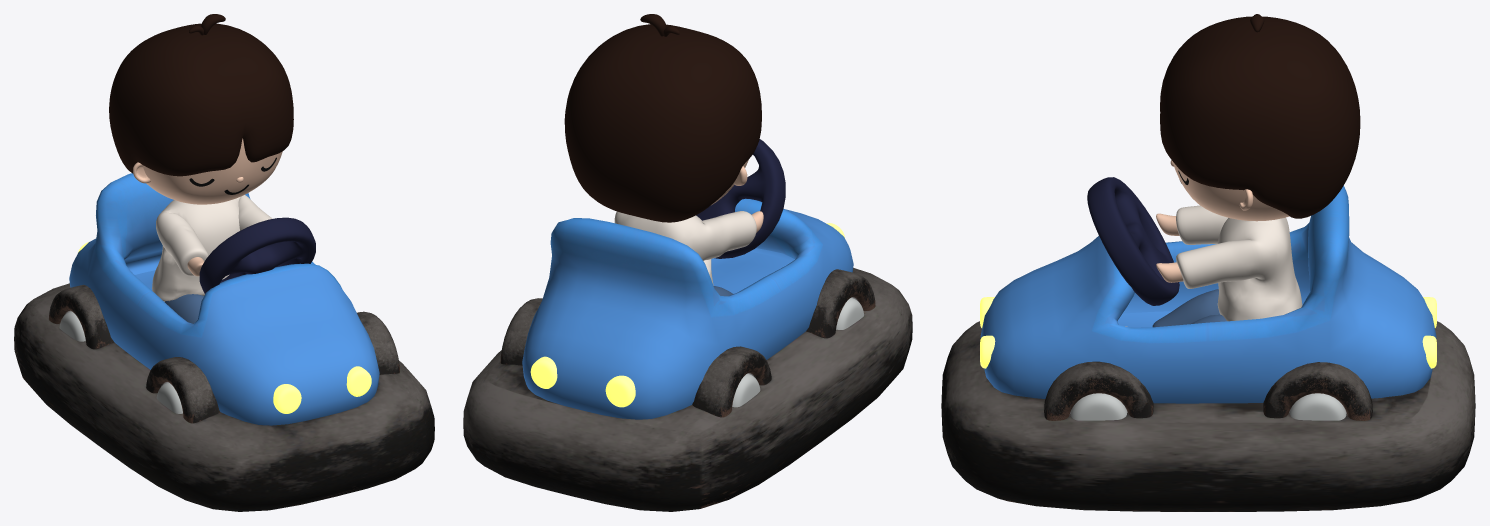
File: BwM3.glb
3 renders of one model, left to right at view 1: azimuth 30°, elevation 25°; view 2: azimuth 150°, elevation 25°; view 3: azimuth 270°, elevation 25°, orthographic. The views are drawn at different scales.
Parts seen in each view (by area): view 1: car11_Cube_3, car11_Cube3, WhiteForUE12.001, car11_Circle3, Handle5, car11_Circle_5, car11_Circle_4; view 2: car11_Cube_3, car11_Cube3, WhiteForUE12.001, car11_Circle3, Handle5, car11_Circle_5, car11_Circle_4; view 3: car11_Cube_3, car11_Cube3, WhiteForUE12.001, car11_Circle3, Handle5, car11_Circle_4, car11_Circle_5.
Part boxes in pixels (box(x1,y1,x2,y2)): car11_Cube_3: box(14, 283, 434, 511); car11_Cube3: box(69, 173, 379, 425); WhiteForUE12.001: box(109, 14, 293, 323); car11_Circle3: box(49, 284, 399, 423); Handle5: box(199, 217, 315, 293); car11_Circle_5: box(78, 242, 371, 413); car11_Circle_4: box(59, 311, 182, 413); car11_Cube_3: box(463, 268, 912, 511); car11_Cube3: box(522, 198, 853, 419); WhiteForUE12.001: box(564, 14, 763, 296); car11_Circle3: box(500, 269, 875, 417); Handle5: box(696, 139, 785, 258); car11_Circle_5: box(530, 223, 844, 407); car11_Circle_4: box(732, 297, 864, 407); car11_Cube_3: box(941, 321, 1475, 511); car11_Cube3: box(980, 185, 1436, 403); WhiteForUE12.001: box(1125, 14, 1360, 327); car11_Circle3: box(1044, 361, 1372, 420); Handle5: box(1087, 177, 1179, 305); car11_Circle_4: box(1070, 393, 1346, 420); car11_Circle_5: box(980, 297, 1436, 368).
Bounding box in the file's own units: 2.89 × 4.1 × 4.42.
8 materials, 1 textured.
